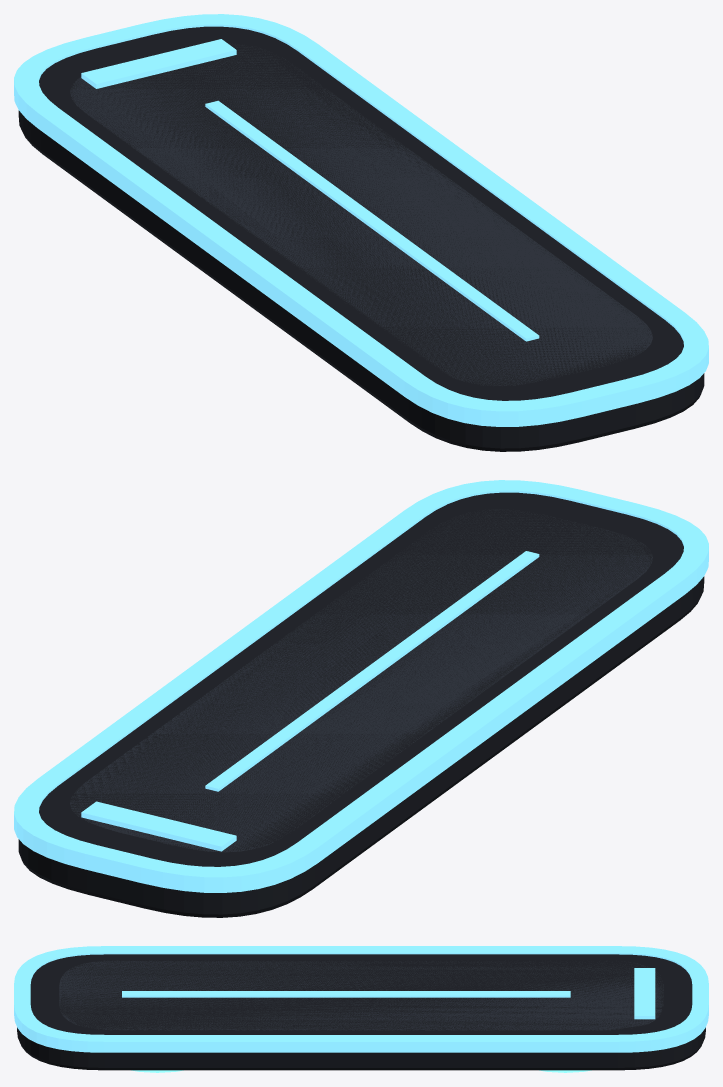
File: wsc-prop-032-hoverboard.glb
The picture shows the model from 3 angles, top to bottom: view 1: azimuth 30°, elevation 25°; view 2: azimuth 150°, elevation 25°; view 3: azimuth 270°, elevation 25°; orthographic projection. The views are drawn at different scales.
Visible parts, largest first — view 1: Hoverboard; view 2: Hoverboard; view 3: Hoverboard.
Part boxes in pixels (x1=…): Hoverboard: x1=14, y1=14, x2=708, y2=451; Hoverboard: x1=14, y1=480, x2=708, y2=917; Hoverboard: x1=14, y1=946, x2=708, y2=1072.
Size of the model in its own units: 0.3 by 0.074 by 0.92.
